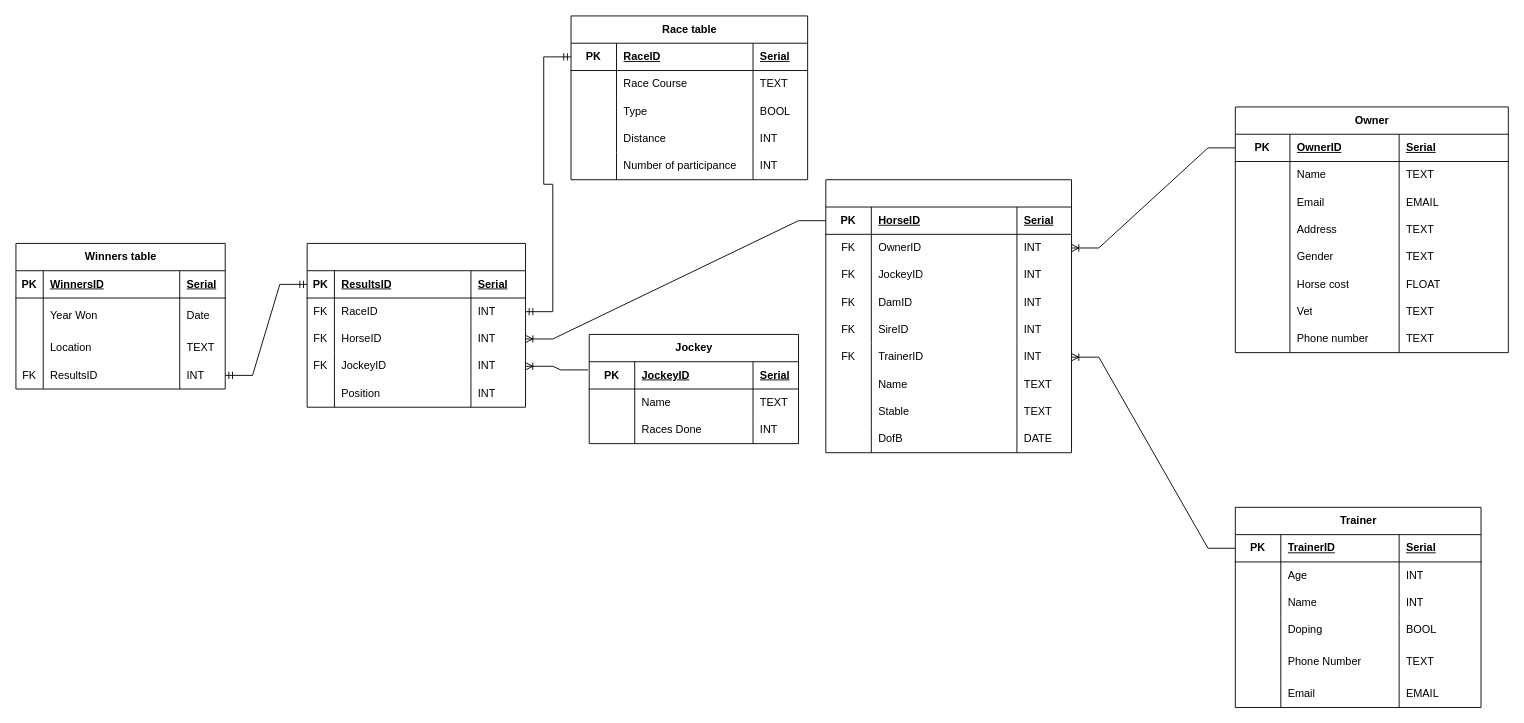
Image size: 1524x723. Some labels were removed from this diagram. Each missing label, with the box of its shape:
Horse table: (825, 179, 1072, 453)
Results Table: (306, 243, 526, 407)
